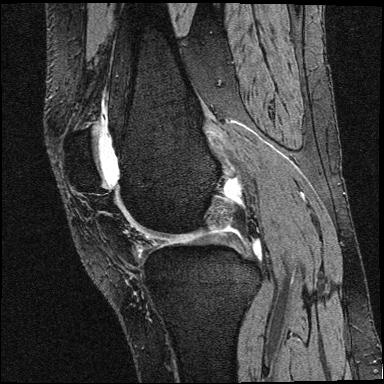SagKneeJointArea: (60, 124, 264, 288)
